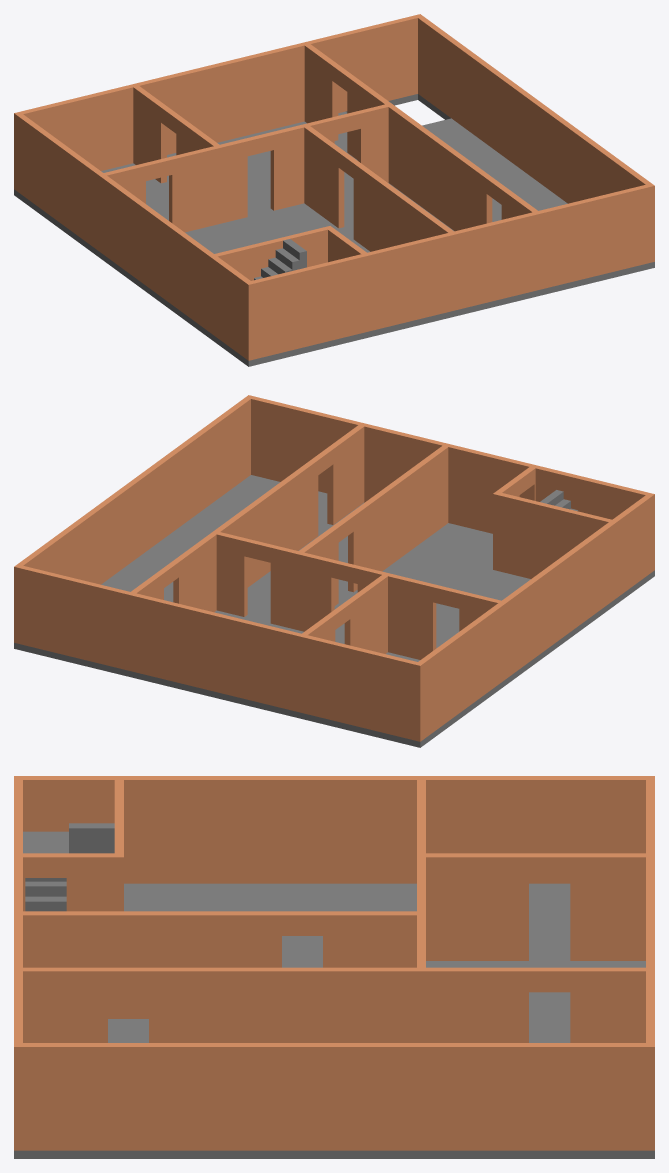
The model's file is SM_Level_2.fbx.
3 views of the same model, one above another, from view 1: azimuth 30°, elevation 25°; view 2: azimuth 150°, elevation 25°; view 3: azimuth 270°, elevation 25° (orthographic). The views are drawn at different scales.
Parts seen in each view (by area): view 1: SM_Level_2; view 2: SM_Level_2; view 3: SM_Level_2.
Boxes of the visible parts, bbox=[...] form: SM_Level_2: bbox=[14, 14, 654, 366]; SM_Level_2: bbox=[14, 395, 654, 747]; SM_Level_2: bbox=[14, 776, 654, 1158].
Bounding box in the file's own units: 14 × 14 × 2.7.
